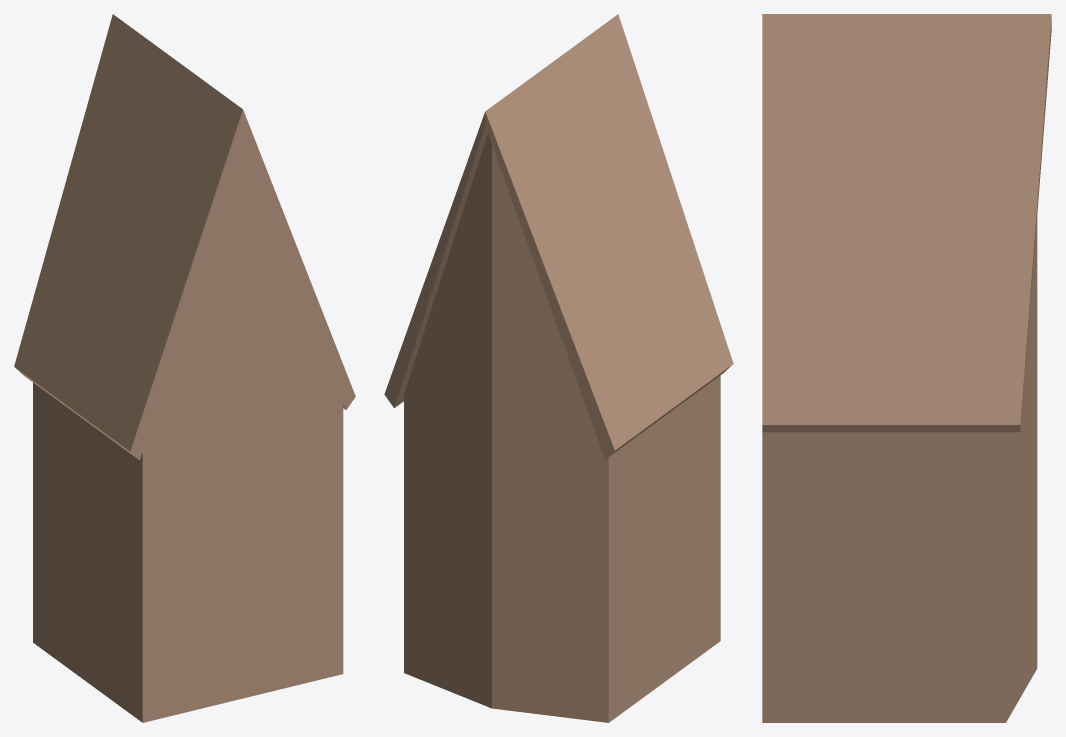
The model's file is house.glb.
3 renders of one model, left to right at view 1: azimuth 30°, elevation 25°; view 2: azimuth 150°, elevation 25°; view 3: azimuth 270°, elevation 25°, orthographic. The views are drawn at different scales.
Parts seen in each view (by area): view 1: House; view 2: House; view 3: House.
Part boxes in pixels (bbox=[...]): House: bbox=[14, 14, 355, 722]; House: bbox=[384, 14, 733, 722]; House: bbox=[762, 14, 1051, 722].
Bounding box in the file's own units: 1 × 2.5 × 1.
